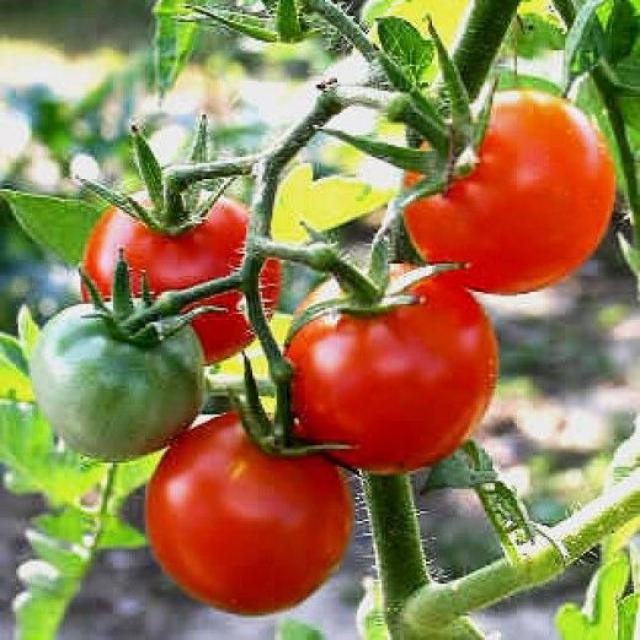level 1: (28, 302, 212, 460)
level 6: (291, 259, 496, 475), (408, 88, 619, 294), (145, 406, 351, 614), (82, 187, 279, 367)
